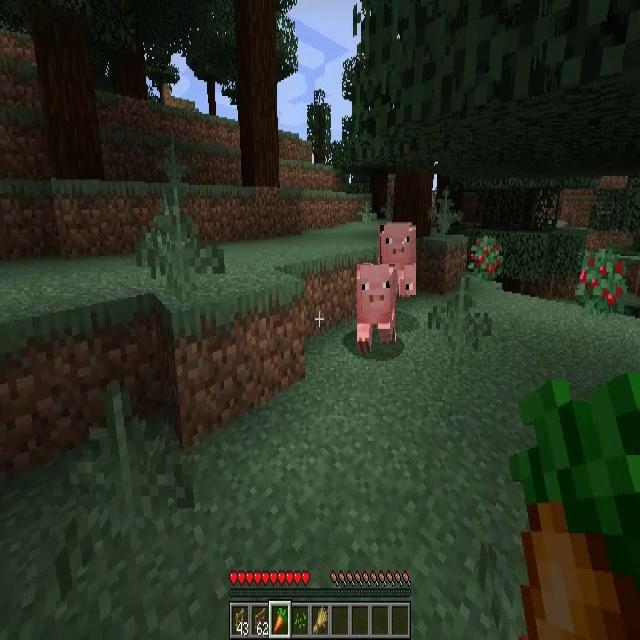pig: (357, 264, 395, 353), (380, 225, 416, 295)
